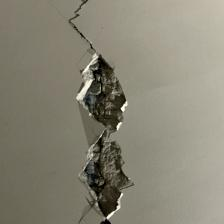Medium: (64, 7, 136, 218)
